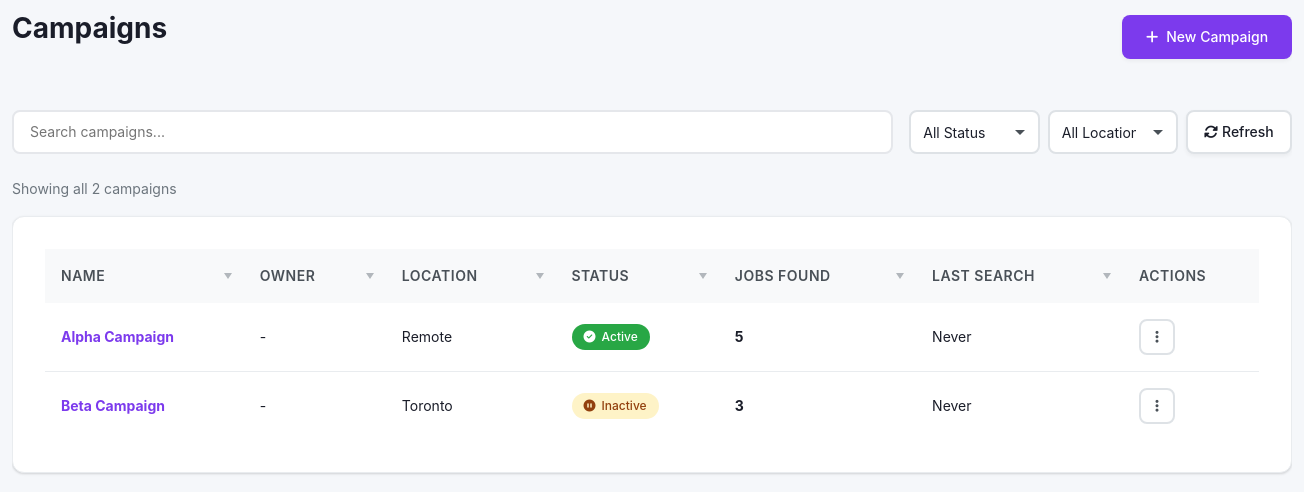
CampaignsList page › filters campaigns by search term
This screenshot has width=1304, height=492.
Expected: the text "Alpha Campaign" is shown, [61,328,174,345]
Expected: the text "Beta Campaign" is shown, [61,397,165,414]
Step 1. Type "Alpha" into the field with placeholder "Search campaigns..." → (453, 132), box [12,110,893,154]
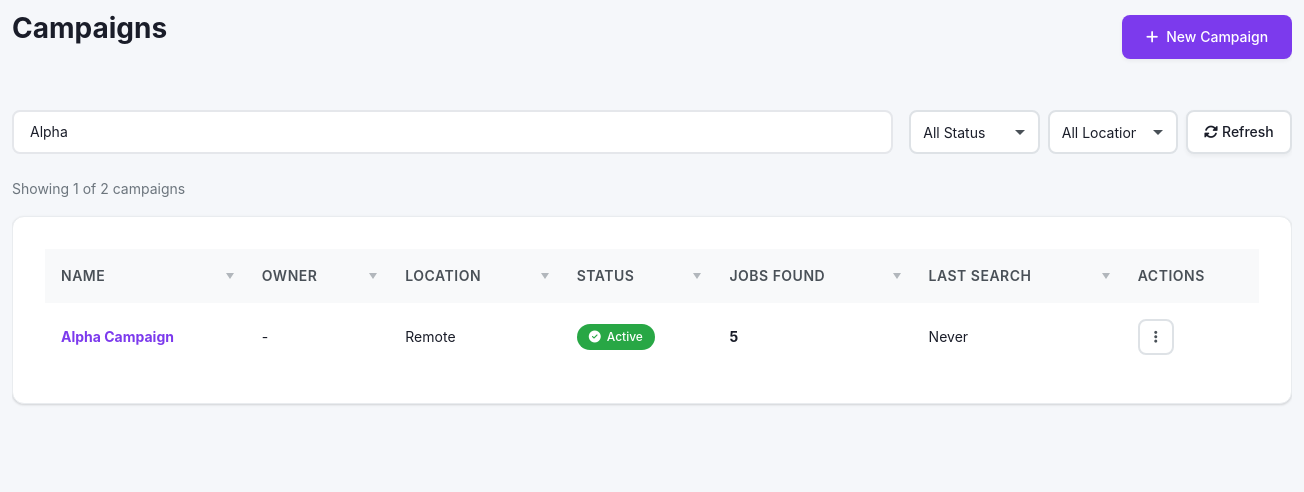
Expected: the text "Alpha Campaign" is shown, [61,328,174,345]
Expected: no links "Beta Campaign" are shown
Expected: the text "Showing 1 of 2 campaigns" is shown, [12,180,185,197]
